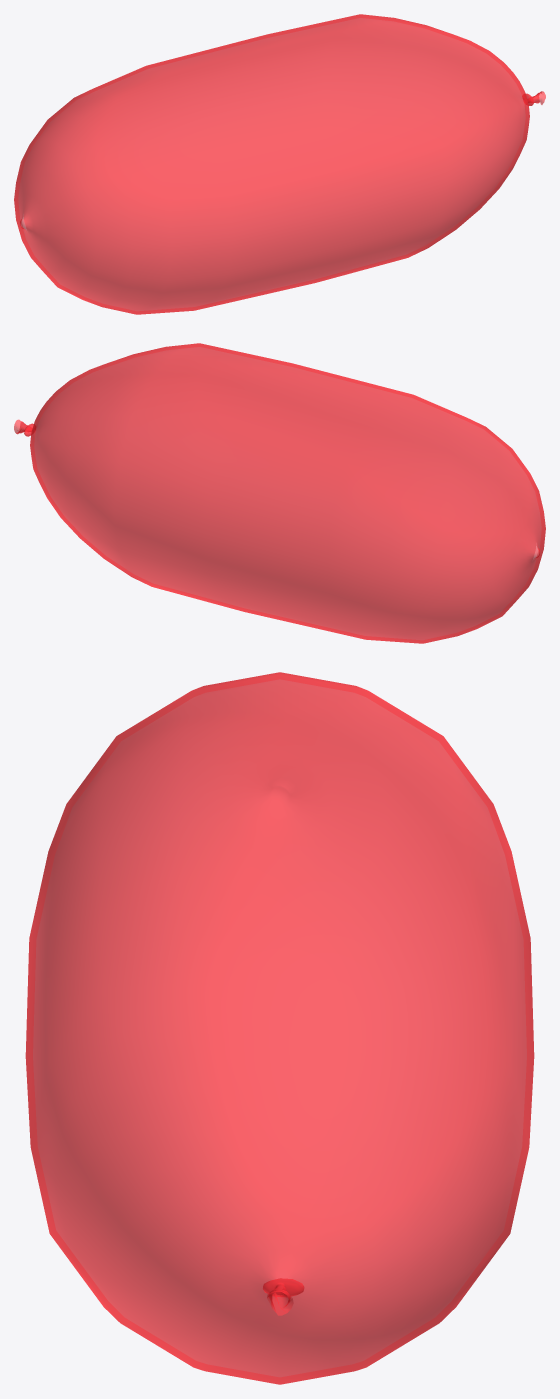
The model's file is balloon_water.fbx.
3 renders of one model, top to bottom at view 1: azimuth 30°, elevation 25°; view 2: azimuth 150°, elevation 25°; view 3: azimuth 270°, elevation 25°, orthographic. The views are drawn at different scales.
Visible parts, largest first — view 1: balloon_water; view 2: balloon_water; view 3: balloon_water.
Boxes of the visible parts, x1,y1,x2,y2 form: balloon_water: (14,14,545,314); balloon_water: (14,343,545,643); balloon_water: (25,672,534,1384).
Bounding box in the file's own units: 0.61 × 0.257 × 0.257.
